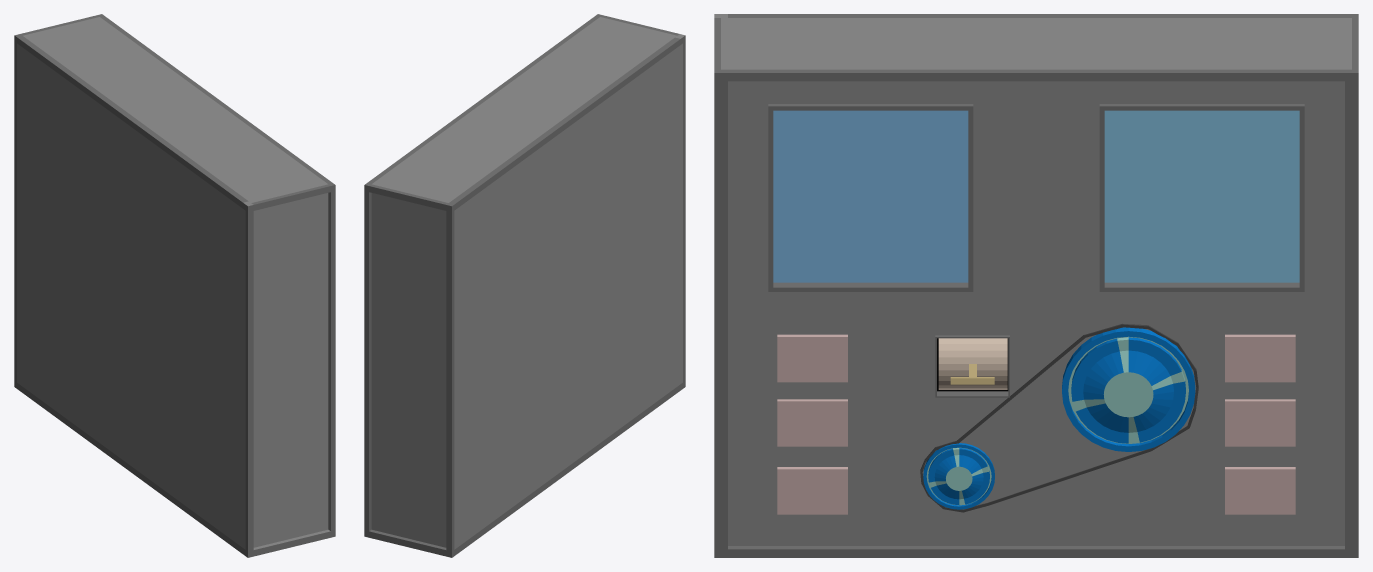
Rendered from SciFiTerminalPod_1.fbx.
3 renders of one model, left to right at view 1: azimuth 30°, elevation 25°; view 2: azimuth 150°, elevation 25°; view 3: azimuth 270°, elevation 25°, orthographic. The views are drawn at different scales.
Parts seen in each view (by area): view 1: TerminalPod1; view 2: TerminalPod1; view 3: TerminalPod1.
Part boxes in pixels (x1,y1,x2,y2): TerminalPod1: (14,14,335,557); TerminalPod1: (364,14,685,557); TerminalPod1: (714,14,1358,557).
Size of the model in its own units: 146 by 418 by 503.
